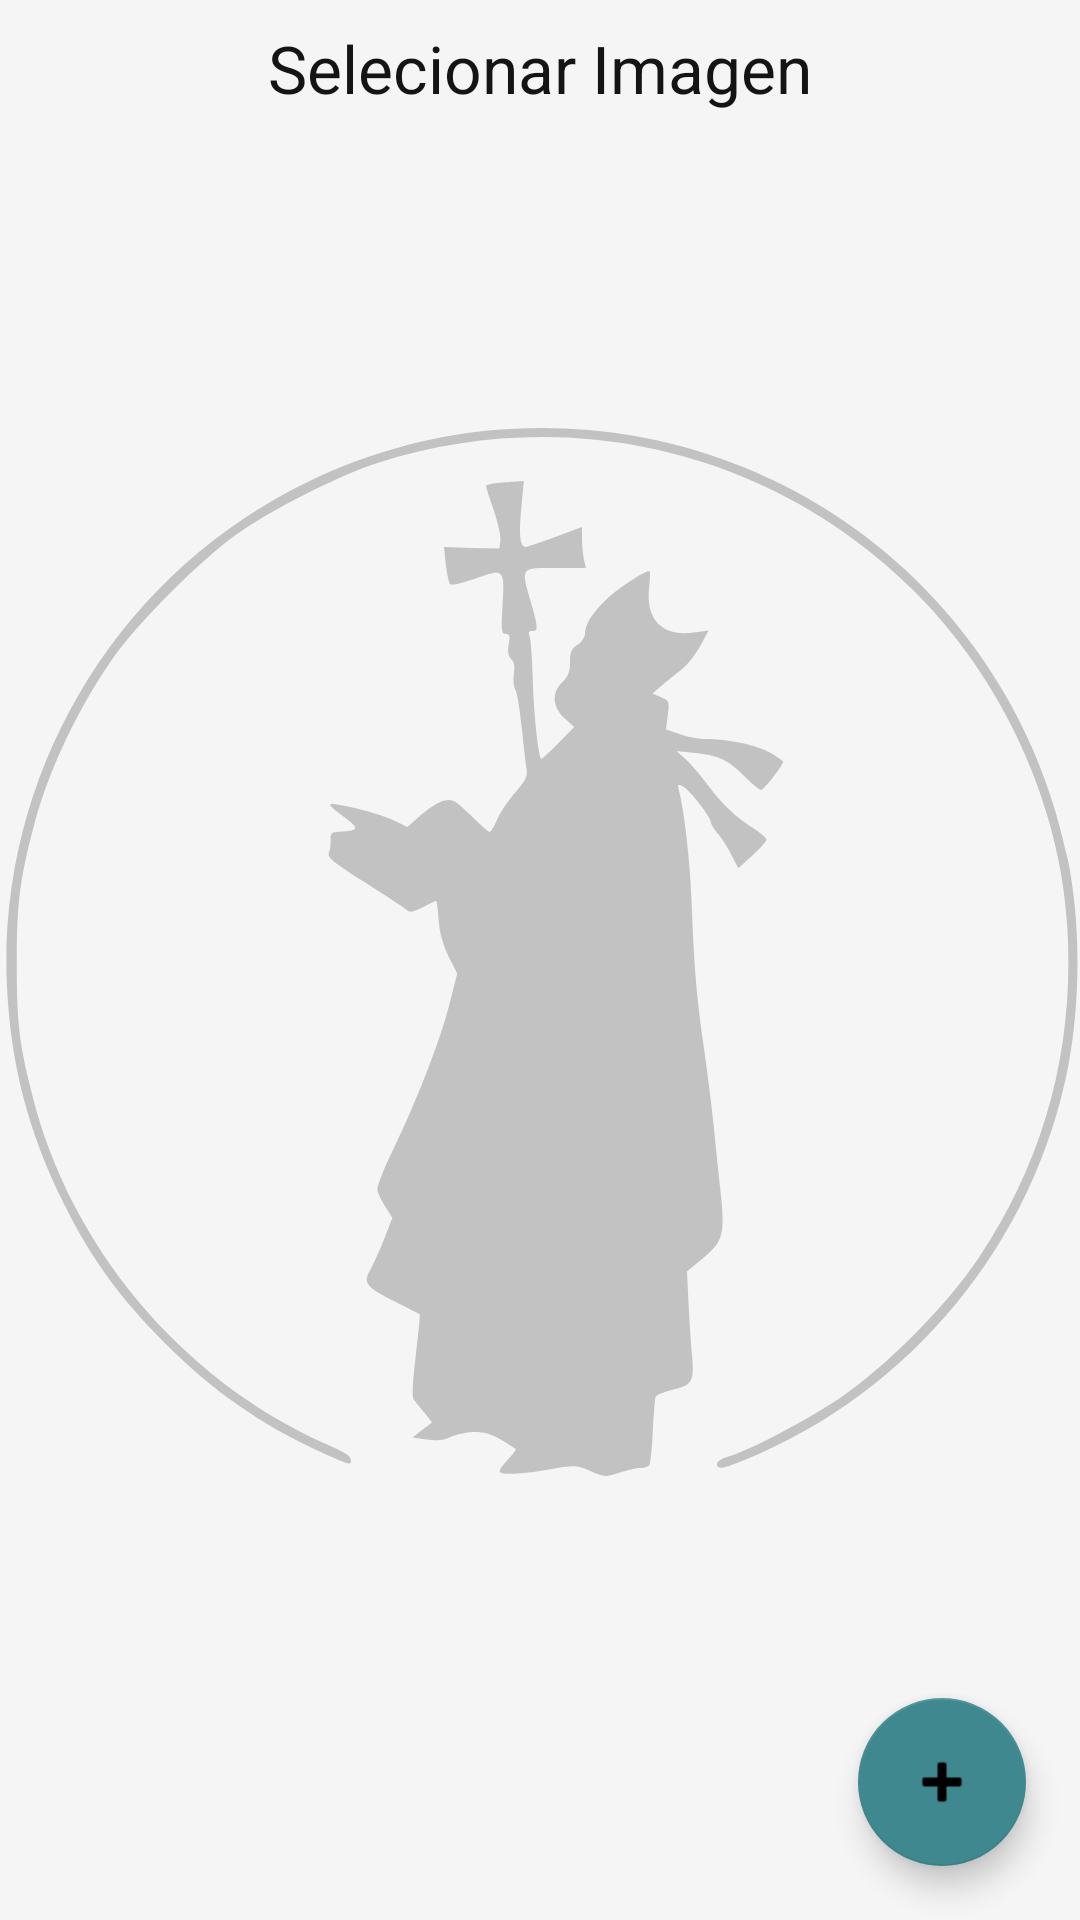

Icons on this 1080px×1920px Android screen, each with its box as (x1, y1, x2, y2):
add: (858, 1698, 1026, 1866)
